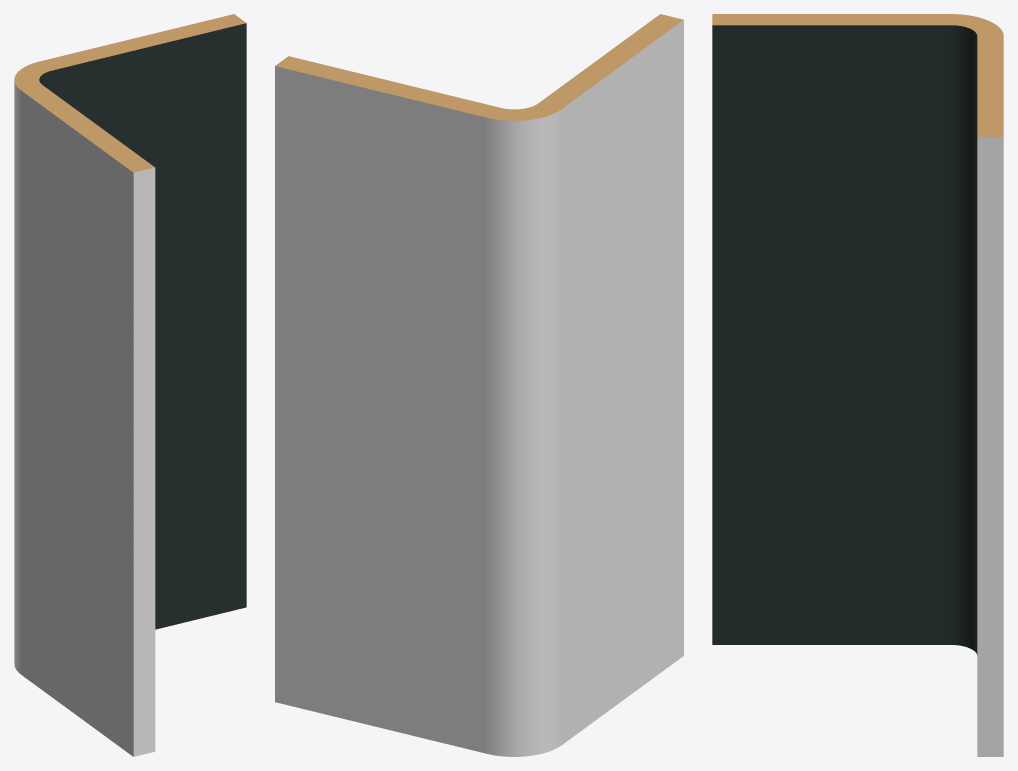
The model's file is wallCornerRond.glb.
The picture shows the model from 3 angles, left to right: view 1: azimuth 30°, elevation 25°; view 2: azimuth 150°, elevation 25°; view 3: azimuth 270°, elevation 25°; orthographic projection. The views are drawn at different scales.
Size of the model in its own units: 5.5 by 12.9 by 5.5.
